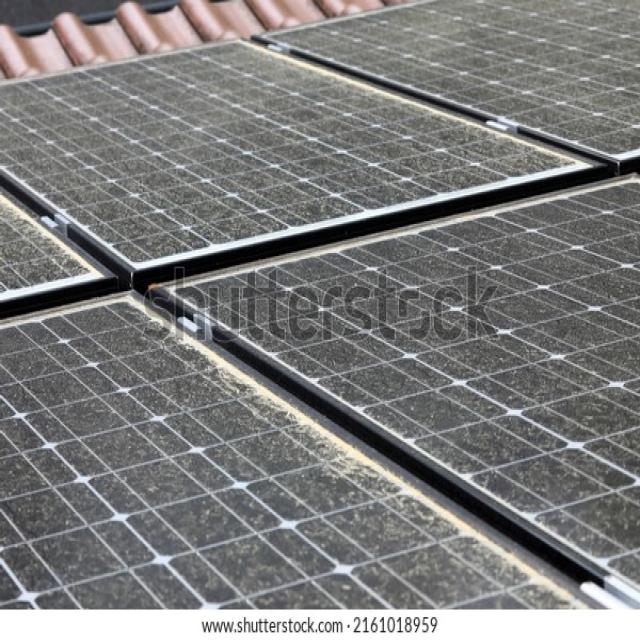dust-solar-panel: (0, 0, 640, 613)
